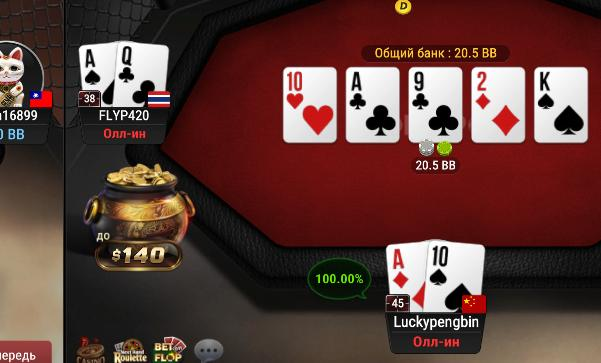10h: (285, 68, 335, 141)
10s: (426, 239, 485, 313)
2d: (472, 68, 524, 142)
9c: (409, 68, 462, 141)
Ac: (345, 68, 400, 142)
Ad: (385, 241, 427, 313)
As: (77, 41, 116, 106)
Kh: (534, 68, 588, 143)
Qc: (116, 41, 168, 108)
